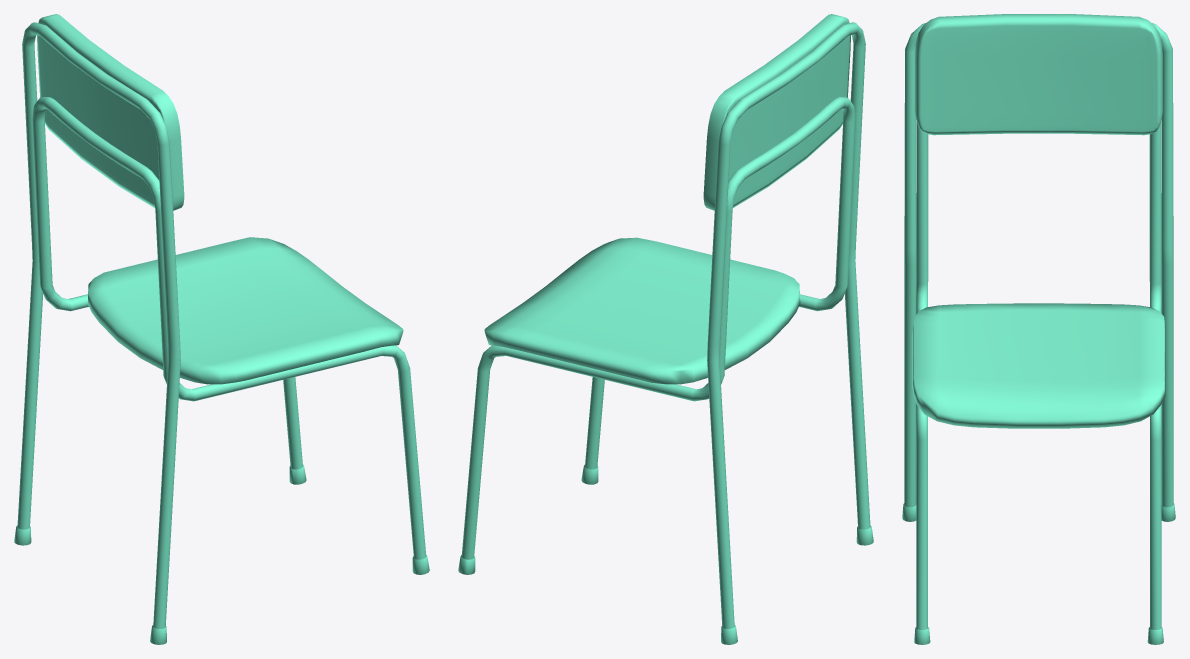
File: Chair.fbx
The picture shows the model from 3 angles, left to right: view 1: azimuth 30°, elevation 25°; view 2: azimuth 150°, elevation 25°; view 3: azimuth 270°, elevation 25°; orthographic projection. The views are drawn at different scales.
Parts seen in each view (by area): view 1: Chair; view 2: Chair; view 3: Chair.
Boxes of the visible parts, x1=… form: Chair: x1=14, y1=14, x2=429, y2=644; Chair: x1=458, y1=14, x2=873, y2=644; Chair: x1=902, y1=14, x2=1175, y2=644.
Size of the model in its own units: 454 by 817 by 400.
